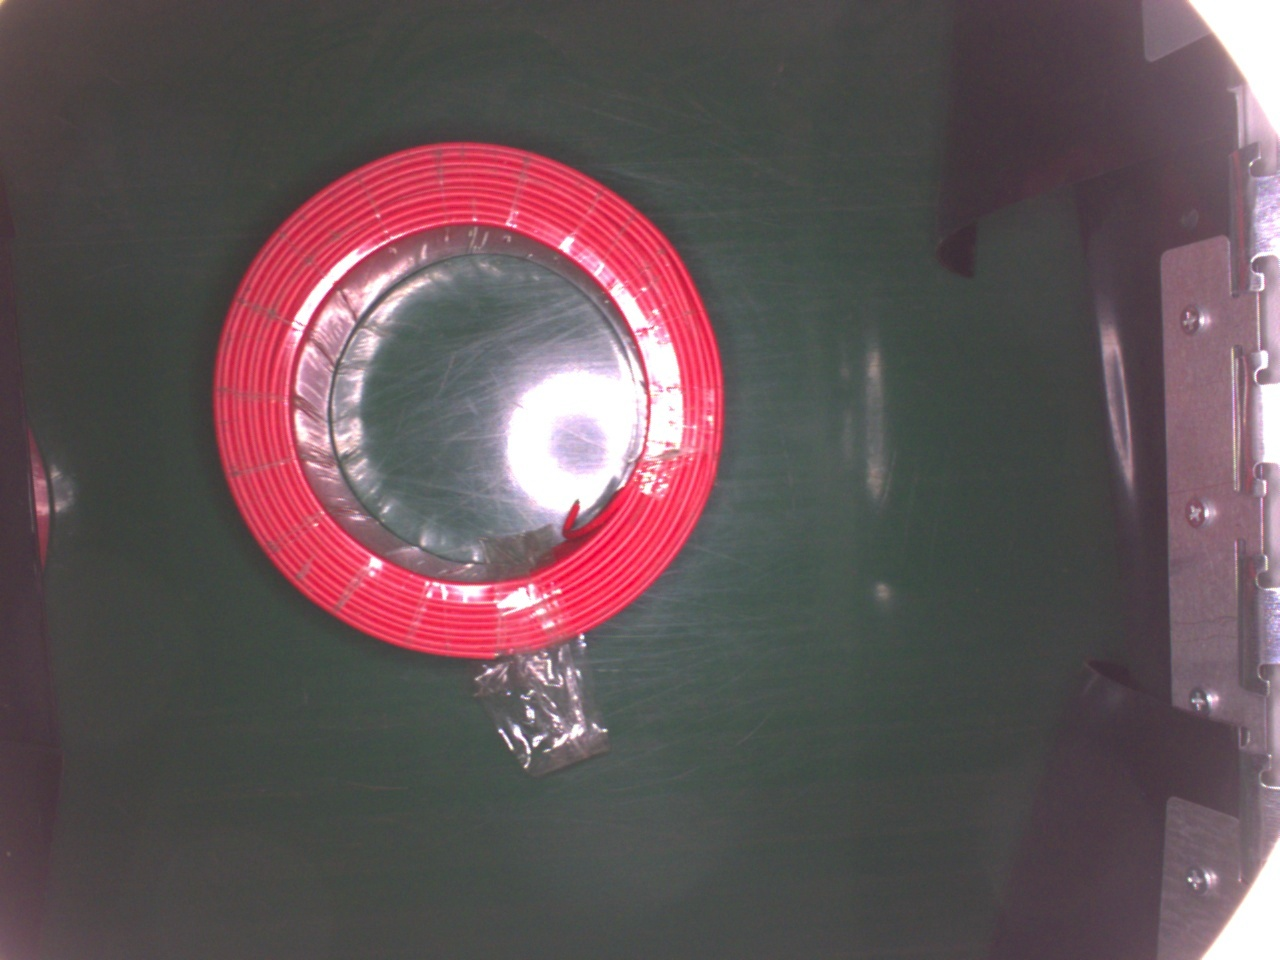red: (214, 139, 727, 655)
